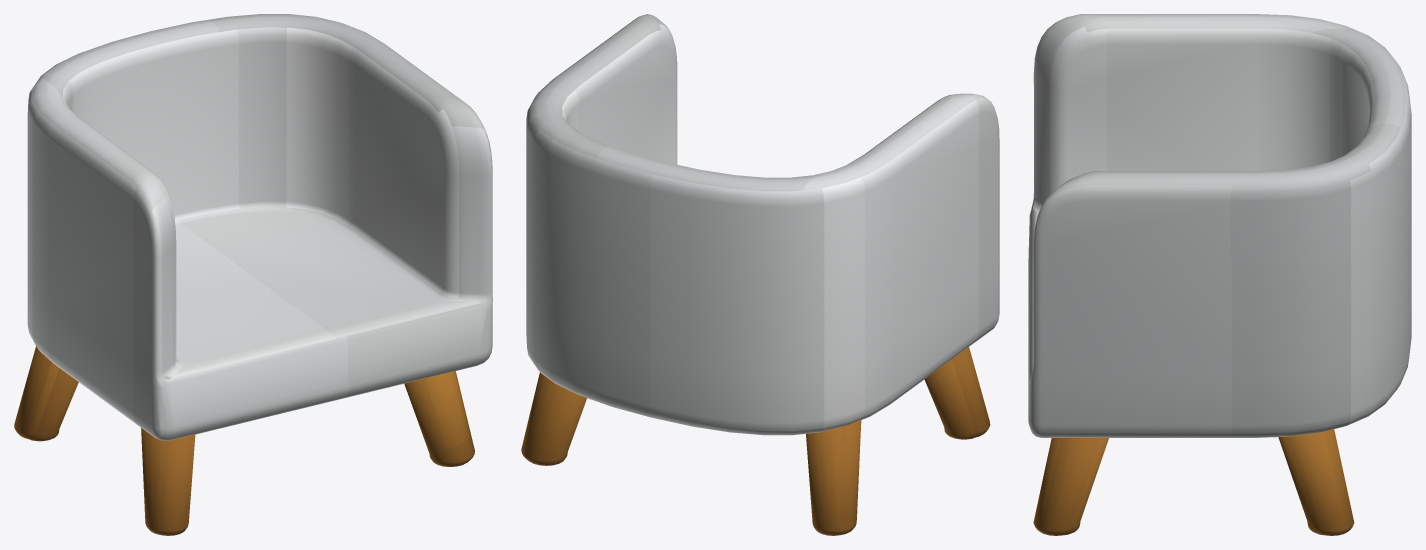
Rendered from LoungeChair_White.fbx.
3 views of the same model, side by side, from view 1: azimuth 30°, elevation 25°; view 2: azimuth 150°, elevation 25°; view 3: azimuth 270°, elevation 25° (orthographic). The views are drawn at different scales.
Parts seen in each view (by area): view 1: loungeChair_.001; view 2: loungeChair_.001; view 3: loungeChair_.001.
Boxes of the visible parts, x1,y1,x2,y2 form: loungeChair_.001: [14, 14, 492, 535]; loungeChair_.001: [521, 14, 999, 535]; loungeChair_.001: [1028, 14, 1411, 535].
Size of the model in its own units: 83.22 by 81.02 by 77.12.
